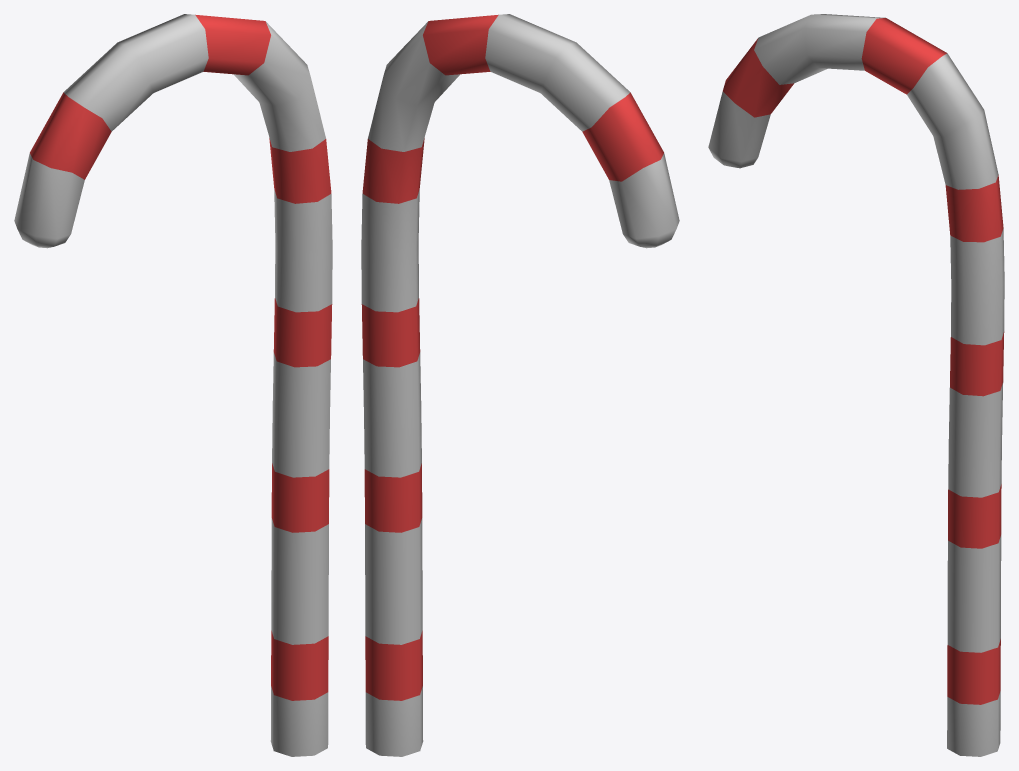
File: canne a sucre.fbx
The picture shows the model from 3 angles, left to right: view 1: azimuth 30°, elevation 25°; view 2: azimuth 150°, elevation 25°; view 3: azimuth 330°, elevation 25°; orthographic projection. The views are drawn at different scales.
Visible parts, largest first — view 1: Cylinder; view 2: Cylinder; view 3: Cylinder.
Part boxes in pixels (x1,y1,x2,y2): Cylinder: (14, 14, 332, 756); Cylinder: (361, 14, 679, 756); Cylinder: (708, 14, 1004, 756).
Size of the model in its own units: 182 by 422 by 30.02.
